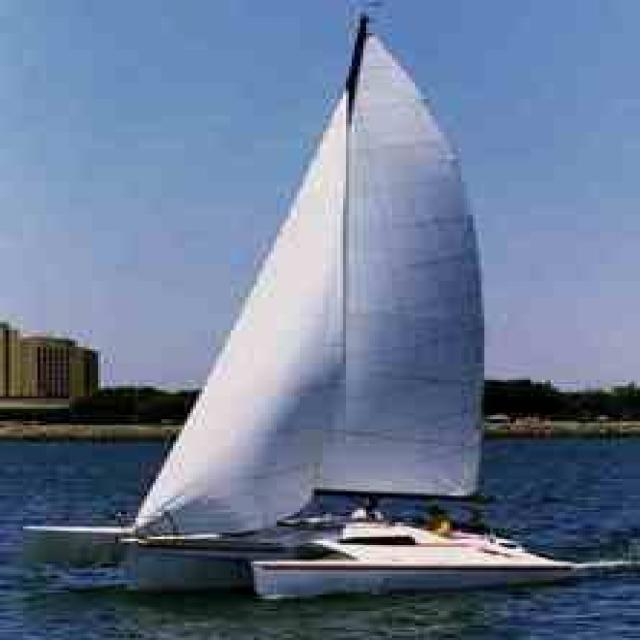Ship: (24, 23, 606, 602)
